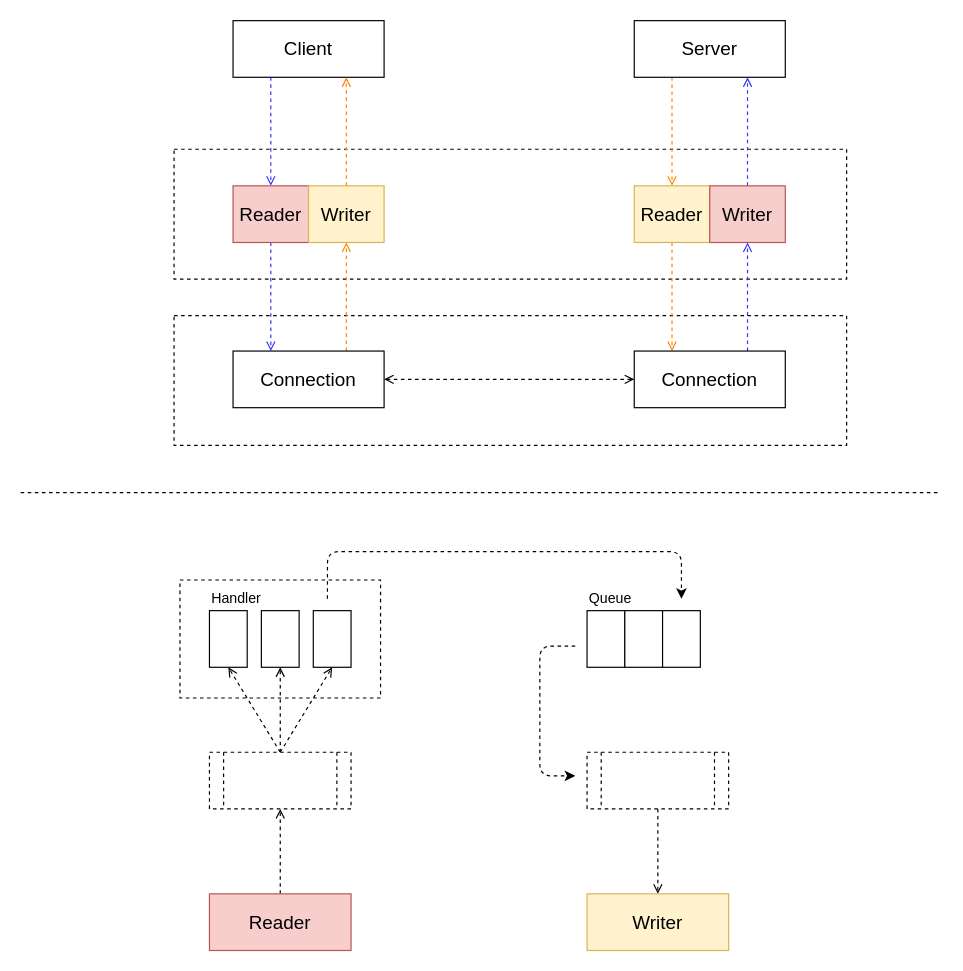
The diagram is 963 pixels wide and 971 high, and some of its shapes have lost their labels. The box of each missing label's shape, as (x1, y1, x2, y2) in pixels:
# read: (208, 751, 351, 809)
# write: (586, 751, 729, 809)
